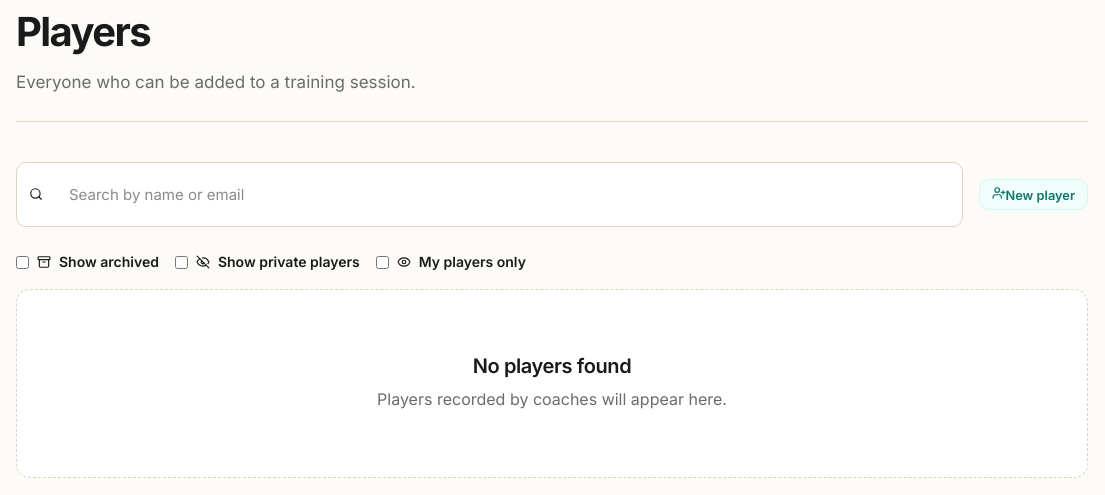
Test: Players › reports an empty search result
Type "zzz" into the search field named "Search players". click: {"x": 500, "y": 194}
box: x1=51 y1=171 x2=950 y2=218
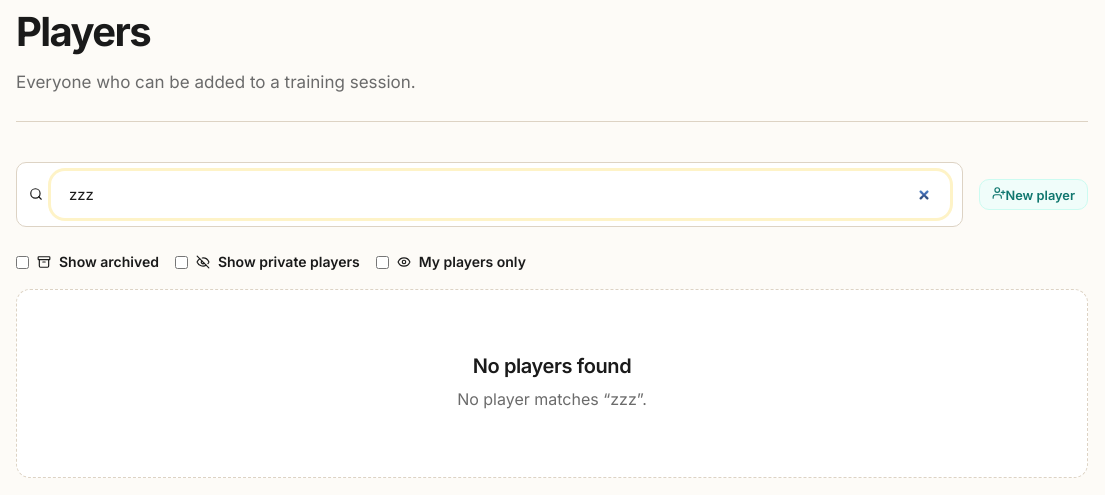
Check: the text "No player matches “zzz”." is shown, box x1=457 y1=389 x2=647 y2=409
